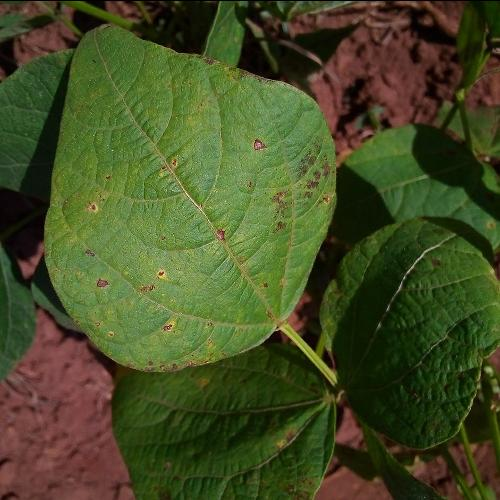hawar: (202, 112, 338, 268), (89, 240, 178, 403)
